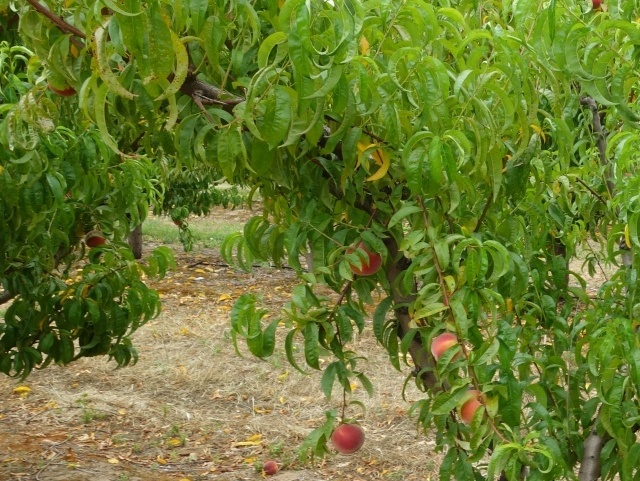peach: (340, 238, 385, 279), (453, 387, 496, 427), (326, 418, 367, 457), (425, 328, 463, 366), (82, 227, 106, 254)
